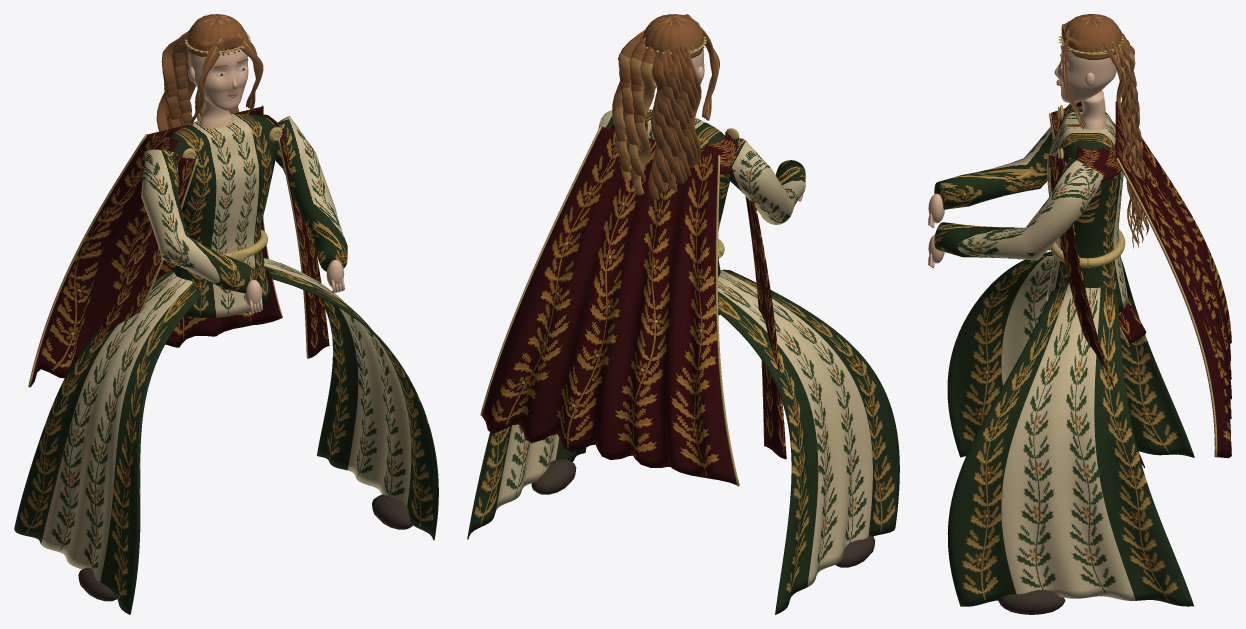
Rendered from princess-v10-mounted.glb.
3 renders of one model, left to right at view 1: azimuth 30°, elevation 25°; view 2: azimuth 150°, elevation 25°; view 3: azimuth 270°, elevation 25°, orthographic.
Parts seen in each view (by area): view 1: MorrisPrincess_surface, cape_surface, body_surface, head_surface, armL_surface, armR_surface; view 2: cape_surface, MorrisPrincess_surface, head_surface, armL_surface, body_surface; view 3: MorrisPrincess_surface, cape_surface, body_surface, head_surface, armR_surface, armL_surface.
Part boxes in pixels (x1=…): MorrisPrincess_surface: x1=14, y1=258, x2=438, y2=614; cape_surface: x1=28, y1=105, x2=329, y2=387; body_surface: x1=170, y1=98, x2=282, y2=317; head_surface: x1=156, y1=14, x2=263, y2=142; armL_surface: x1=141, y1=149, x2=262, y2=313; armR_surface: x1=275, y1=116, x2=347, y2=293; cape_surface: x1=480, y1=109, x2=786, y2=486; MorrisPrincess_surface: x1=467, y1=269, x2=899, y2=614; head_surface: x1=612, y1=14, x2=719, y2=200; armL_surface: x1=723, y1=138, x2=805, y2=224; body_surface: x1=646, y1=109, x2=739, y2=315; MorrisPrincess_surface: x1=947, y1=251, x2=1194, y2=614; cape_surface: x1=1049, y1=101, x2=1231, y2=467; body_surface: x1=1046, y1=90, x2=1127, y2=312; head_surface: x1=1054, y1=14, x2=1149, y2=248; armR_surface: x1=928, y1=157, x2=1104, y2=268; armL_surface: x1=928, y1=102, x2=1077, y2=227.
Bounding box in the file's own units: 0.948 × 1.46 × 0.767.
Materials: 10 (2 with a texture image).
